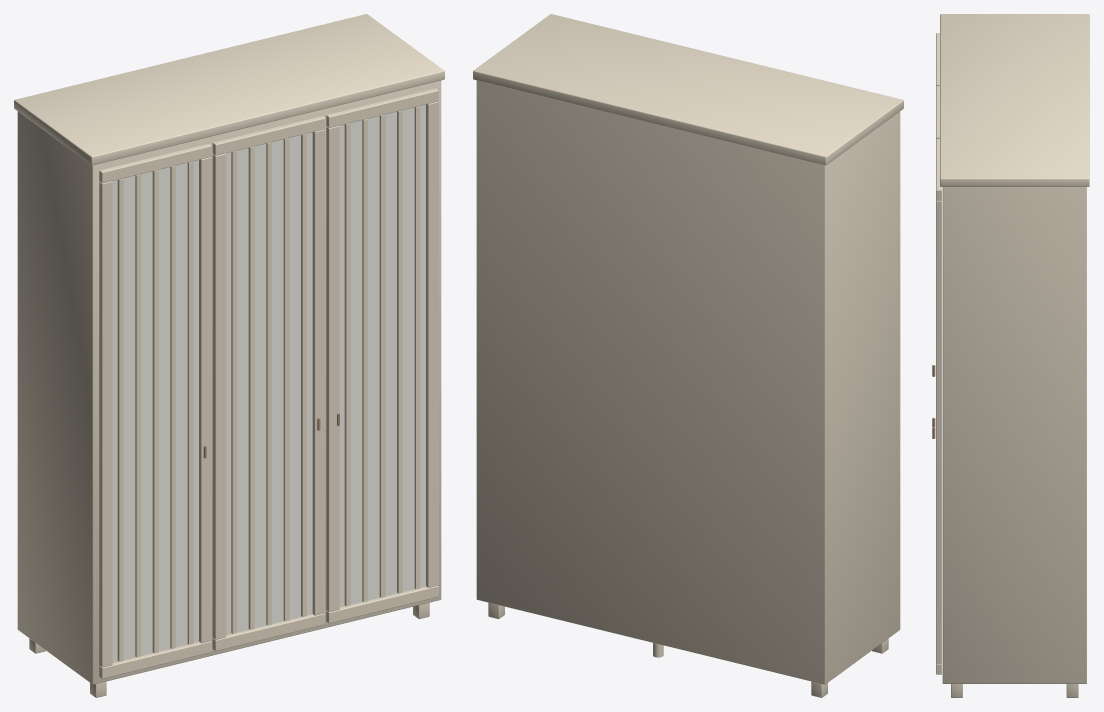
The model's file is sg_wardrobe.glb.
3 views of the same model, side by side, from view 1: azimuth 30°, elevation 25°; view 2: azimuth 150°, elevation 25°; view 3: azimuth 270°, elevation 25° (orthographic). The views are drawn at different scales.
Parts seen in each view (by area): view 1: body, top, door0_p, door1_p, door2_p, door1_f, door0_f, door2_f, door0_s, door2_s, door1_s; view 2: body, top; view 3: body, top, door2_f.
Boxes of the visible parts, x1,y1,x2,y2 form: body: (17, 80, 441, 684); top: (14, 14, 444, 165); door0_p: (112, 160, 198, 662); door1_p: (226, 132, 312, 635); door2_p: (339, 104, 425, 607); door1_f: (212, 116, 325, 651); door0_f: (99, 143, 211, 678); door2_f: (326, 88, 438, 623); door0_s: (117, 161, 193, 661); door2_s: (344, 106, 420, 606); door1_s: (231, 134, 306, 633); body: (476, 80, 900, 684); top: (473, 14, 903, 165); body: (942, 187, 1086, 683); top: (940, 14, 1089, 186); door2_f: (936, 139, 941, 674).
Bounding box in the file's own units: 1.62 × 2.4 × 0.652.
